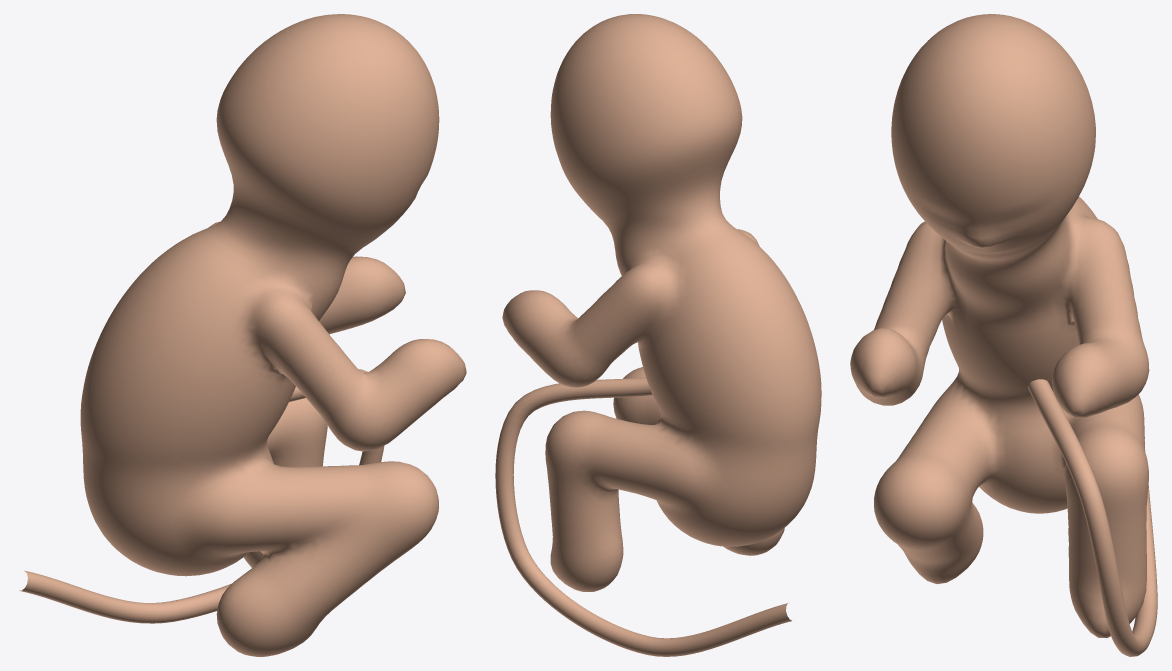
File: agosto.gltf
3 renders of one model, left to right at view 1: azimuth 30°, elevation 25°; view 2: azimuth 150°, elevation 25°; view 3: azimuth 270°, elevation 25°, orthographic. The views are drawn at different scales.
Parts seen in each view (by area): view 1: Alessa_agosto_continuous_surface, cord; view 2: Alessa_agosto_continuous_surface, cord; view 3: Alessa_agosto_continuous_surface, cord.
Boxes of the visible parts, x1,y1,x2,y2 form: Alessa_agosto_continuous_surface: [80, 14, 466, 656]; cord: [19, 369, 384, 623]; Alessa_agosto_continuous_surface: [502, 14, 821, 591]; cord: [495, 377, 791, 656]; Alessa_agosto_continuous_surface: [850, 14, 1149, 638]; cord: [1027, 379, 1157, 656].
Bounding box in the file's own units: 1.33 × 2.26 × 0.9802.
